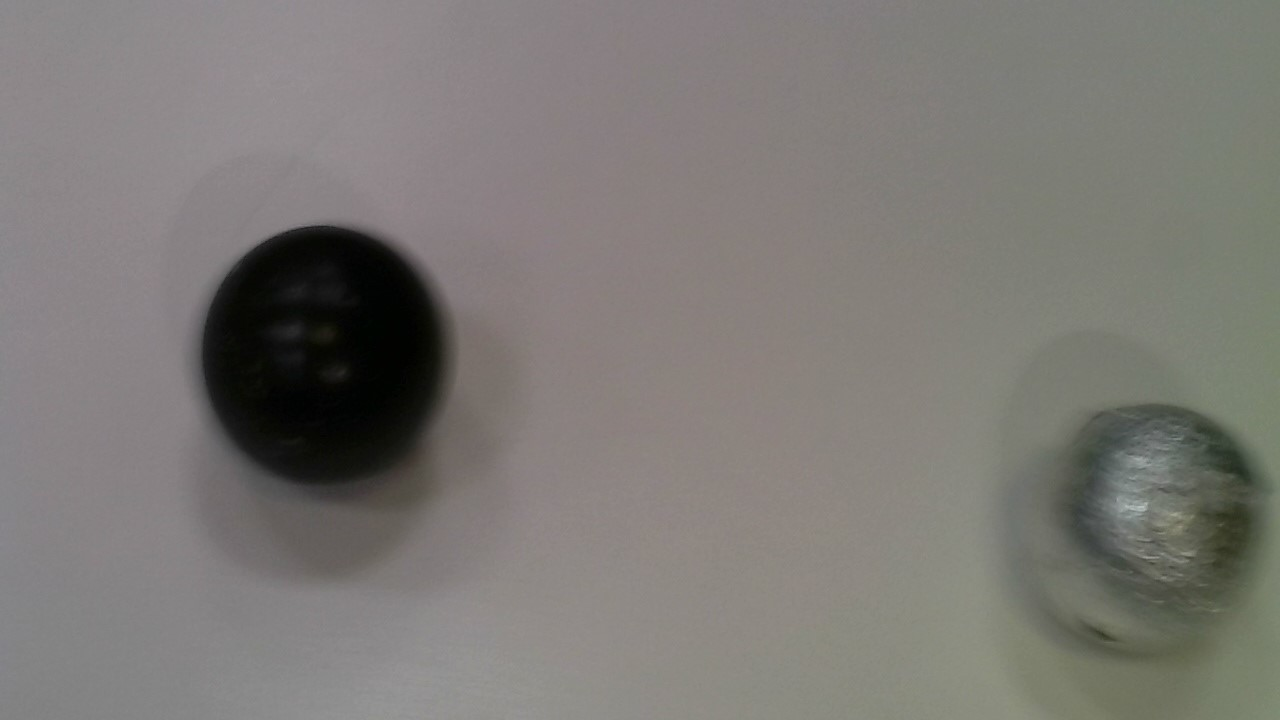black_ball: (189, 222, 463, 489)
silver_ball: (1012, 411, 1262, 662)
